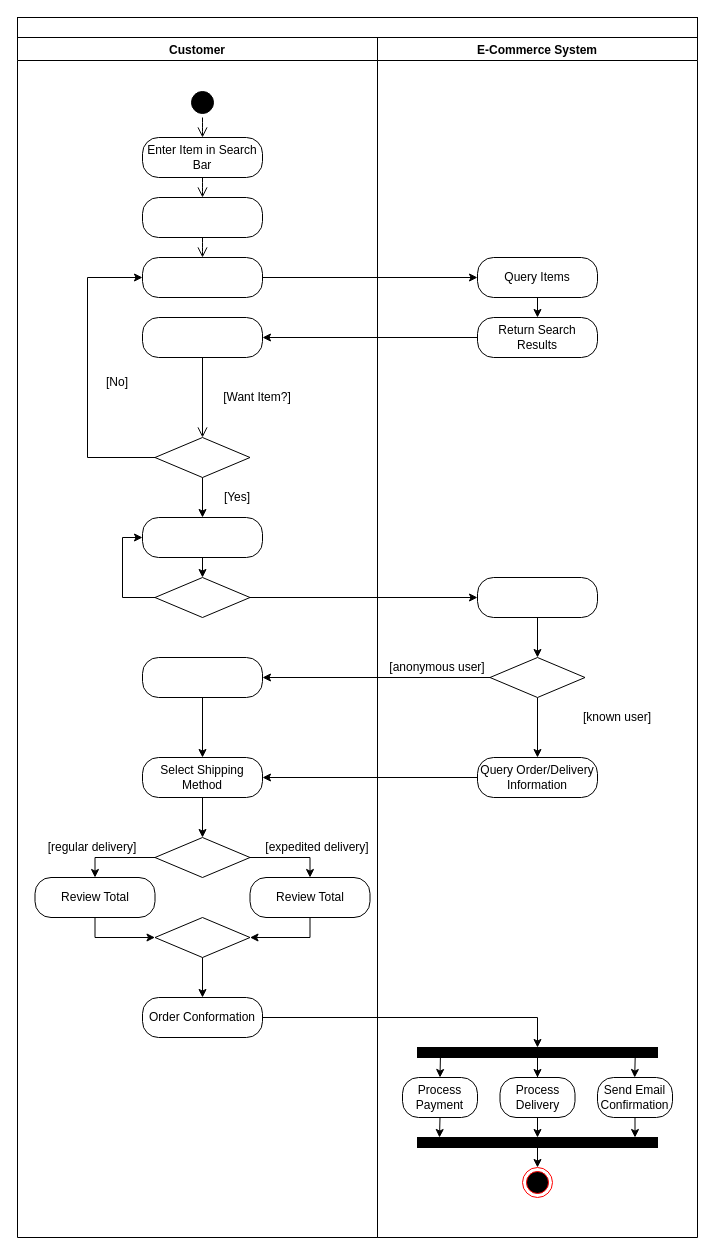
This 715x1255 diagram has some shape labels left out. The shapes that lost their labels are listed below. From the top down, each one's box as (x1, y1, x2, y2) in pixels, then its label:
(16, 16, 698, 38): UML Activity Diagram
(142, 196, 262, 238): Choose Search Selection
(142, 256, 262, 298): Filter Options
(142, 316, 262, 358): Select Item and Read Details
(142, 516, 262, 558): Add Item to Cart
(476, 576, 598, 618): Checkout
(142, 656, 262, 698): Login/Register
